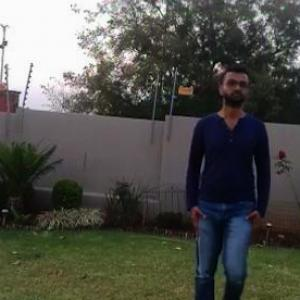follow: (176, 64, 271, 299)
